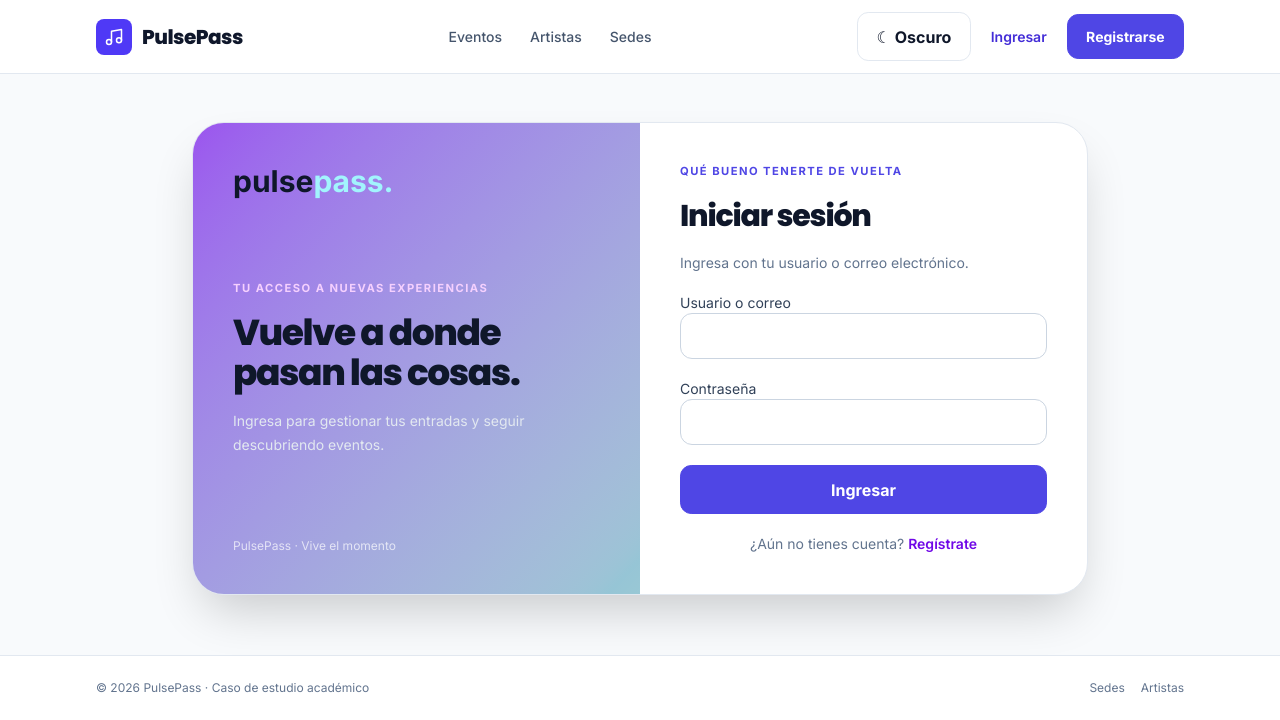
Test case: login, registro y sesión › credenciales inválidas (401) muestran un mensaje genérico y no guardan sesión
Type "nadie" into the field labelled "Usuario o correo" at coordinates (864, 336), box [680,313,1047,359]
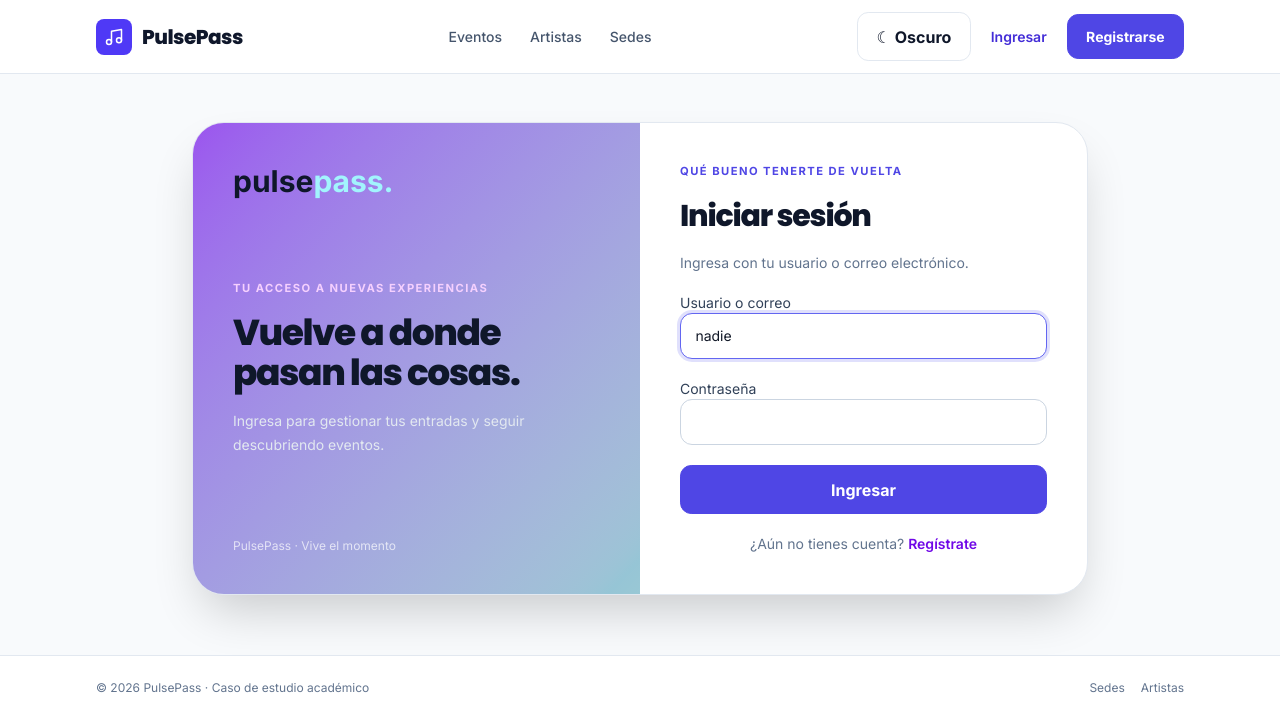
Type "ClaveIncorrecta-1" into the password field labelled "Contraseña" at coordinates (864, 422), box [680,399,1047,445]
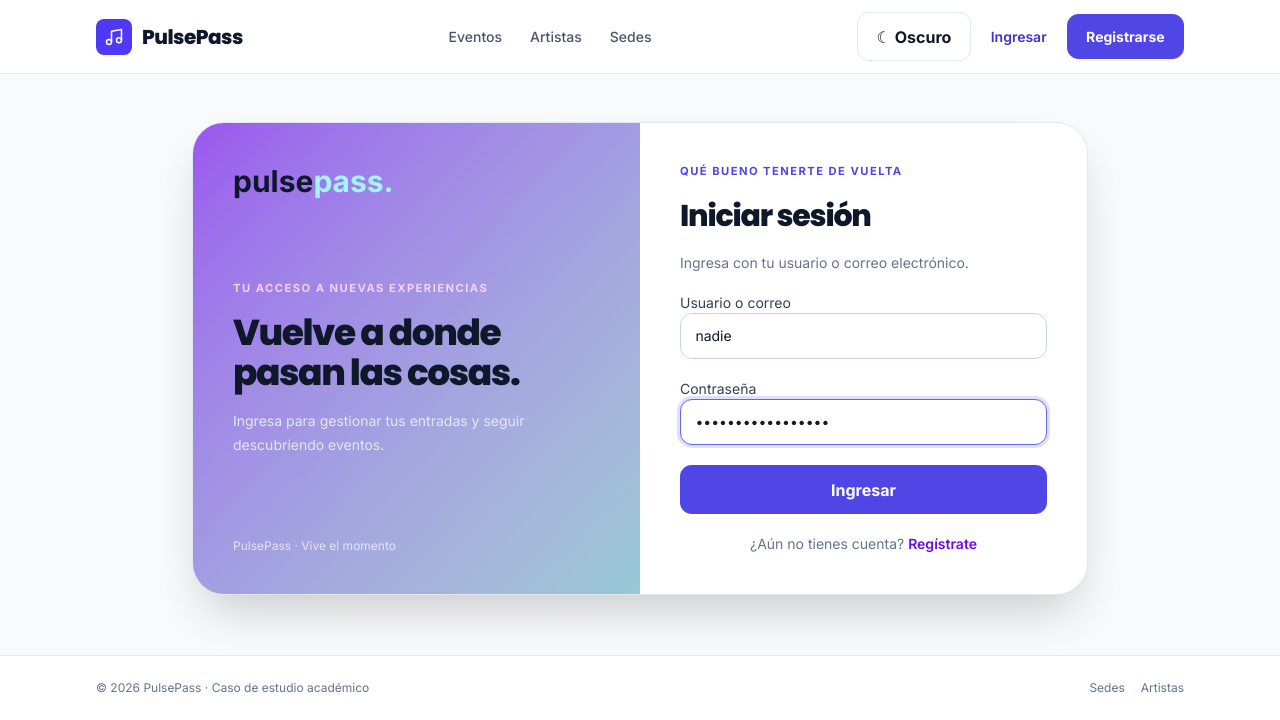
Click the button "Ingresar" at coordinates (864, 490), box [680,465,1047,514]
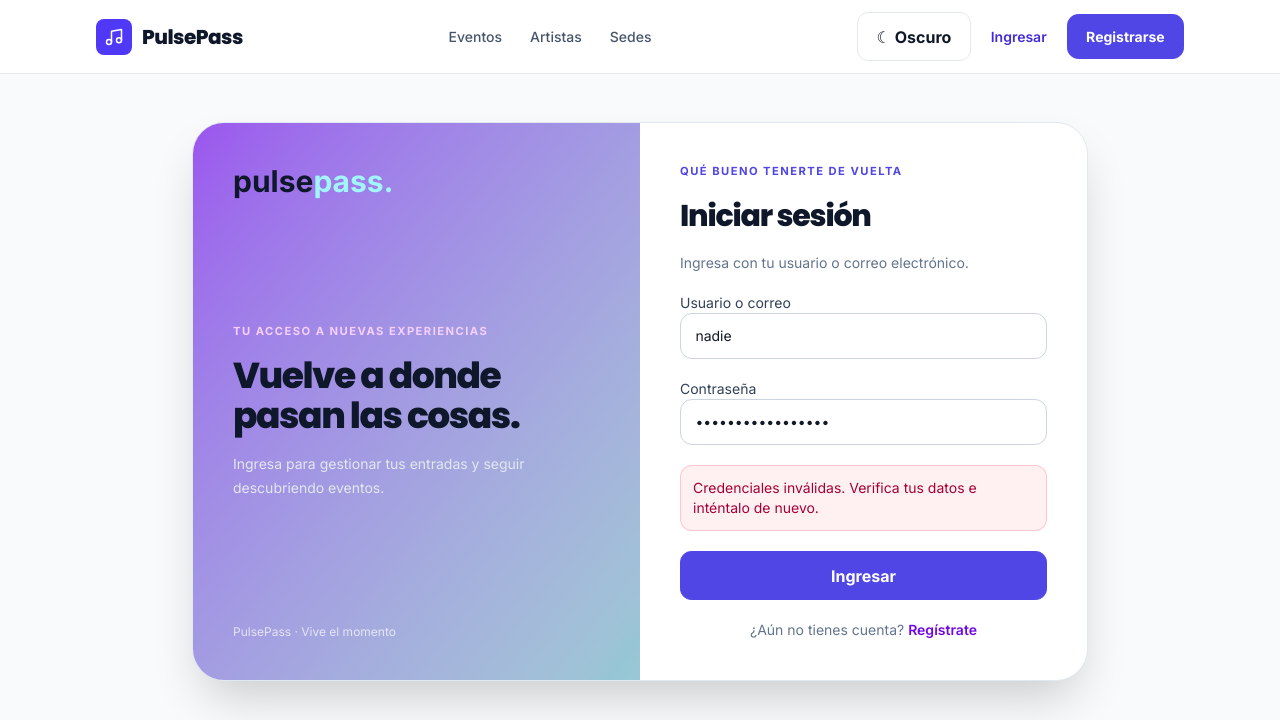
Expected: the text "Credenciales inválidas. Verifica tus datos e inténtalo de nuevo." is shown, [680,465,1047,531]
